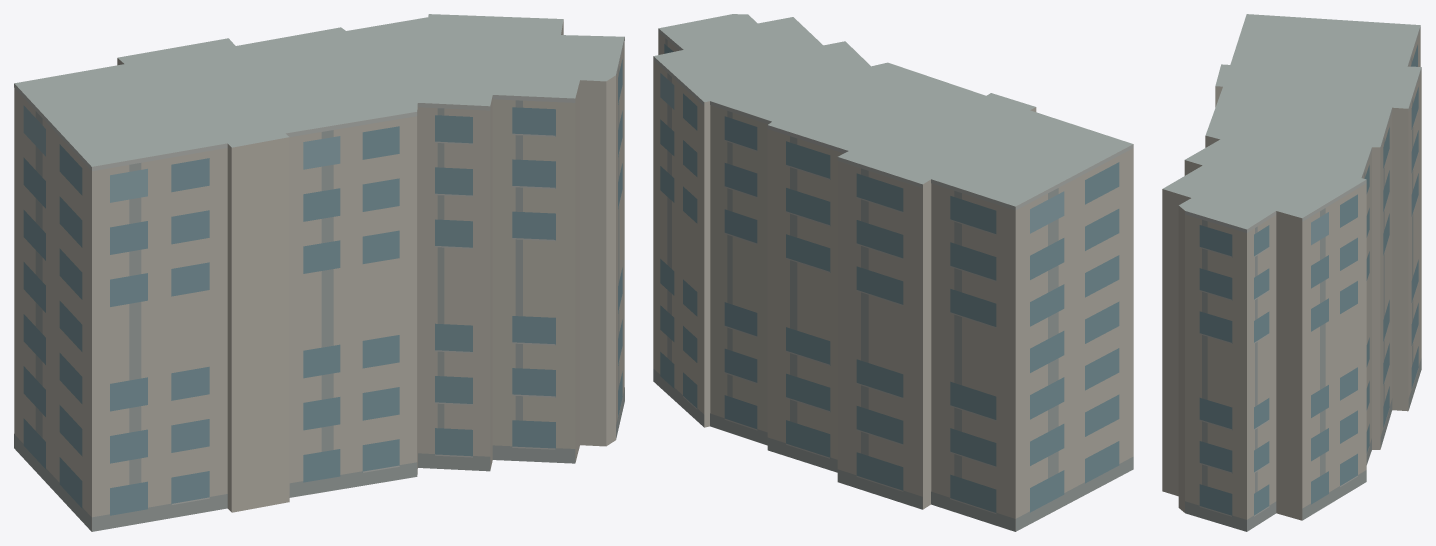
File: survey-upis-32644096.glb
The picture shows the model from 3 angles, left to right: view 1: azimuth 30°, elevation 25°; view 2: azimuth 150°, elevation 25°; view 3: azimuth 270°, elevation 25°; orthographic projection. The views are drawn at different scales.
Parts seen in each view (by area): view 1: survey-upis-32644096.tmp; view 2: survey-upis-32644096.tmp; view 3: survey-upis-32644096.tmp.
Part boxes in pixels (x1,y1,x2,y2): survey-upis-32644096.tmp: [14, 14, 624, 531]; survey-upis-32644096.tmp: [653, 14, 1133, 531]; survey-upis-32644096.tmp: [1162, 14, 1421, 531].
Bounding box in the file's own units: 30.62 × 20.03 × 15.56.
